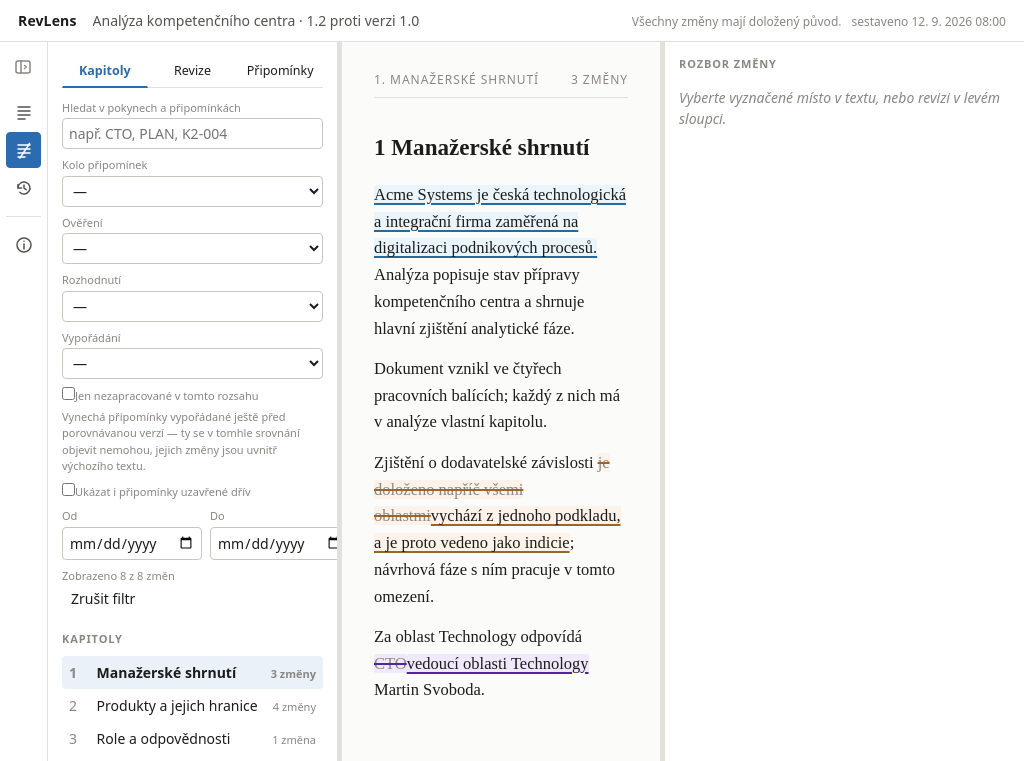
clicking a marked passage › opens the inspector with the revision and the comment behind the change
The image size is (1024, 761).
Expected: the element showing "1 Manažerské shrnutí" is shown, 374,134 -> 590,160
Click the button "CTO": [390, 664] box 374,654 -> 407,673
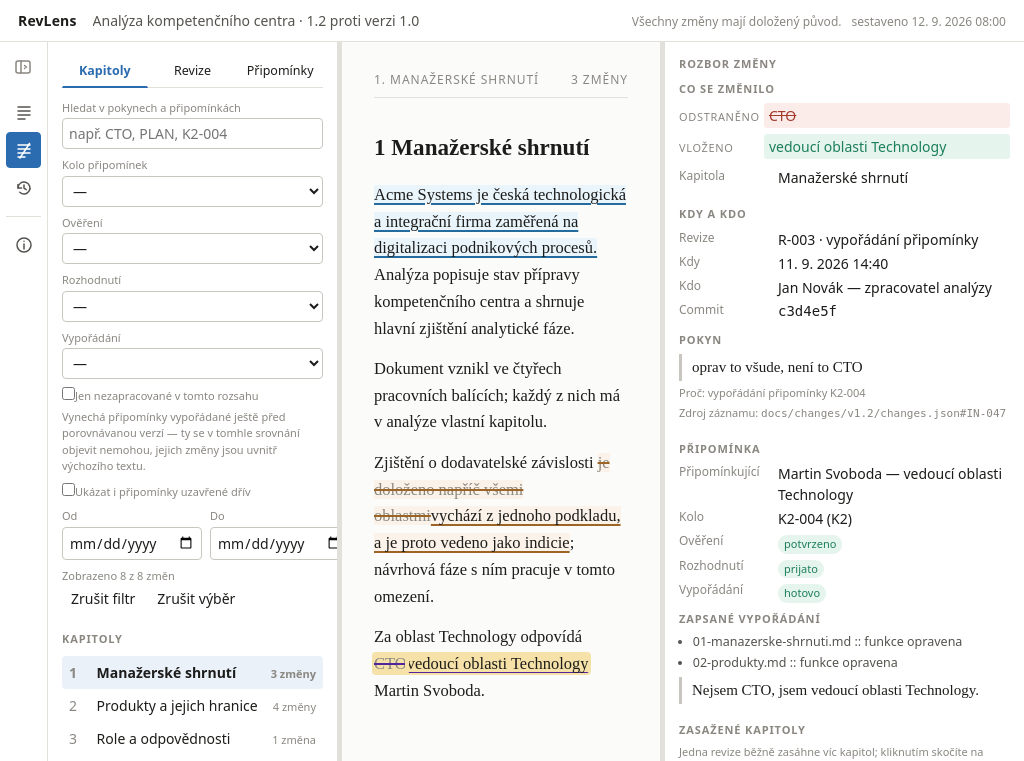
Expected: the text "vedoucí oblasti Technology" is shown, 764,134 -> 1010,159
Expected: the text "CTO" is shown, 764,103 -> 1010,128
Expected: the text "oprav to všude, není to CTO" is shown, 679,354 -> 1010,380
